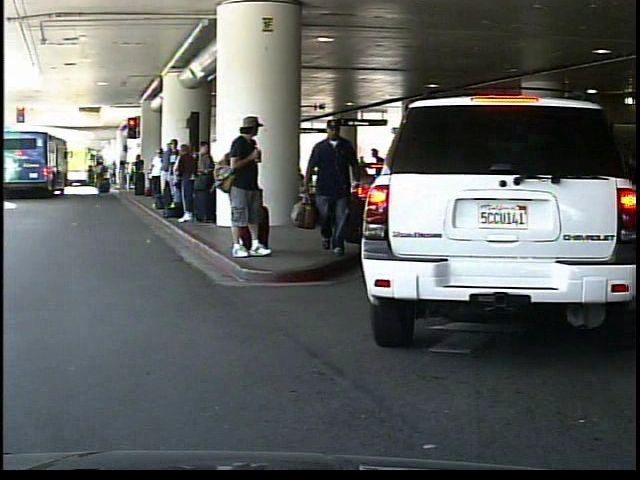person: (303, 116, 366, 257), (223, 114, 278, 260)
